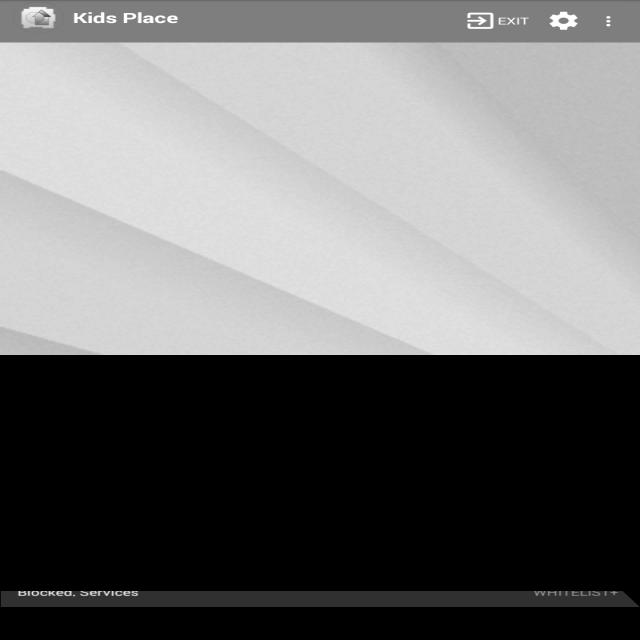ImageButton: (463, 10, 533, 32)
ImageView: (16, 1, 62, 34)
RadioButton: (548, 8, 580, 34), (594, 13, 626, 28)
TextView: (72, 7, 186, 29)
